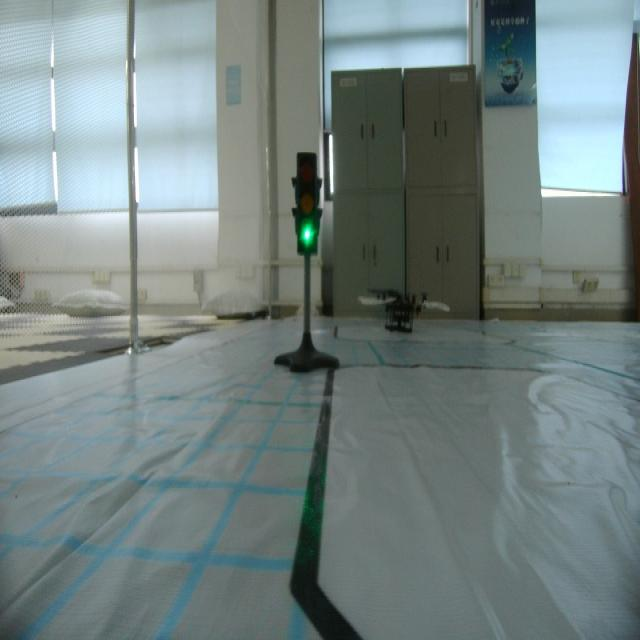green: (283, 139, 329, 264)
